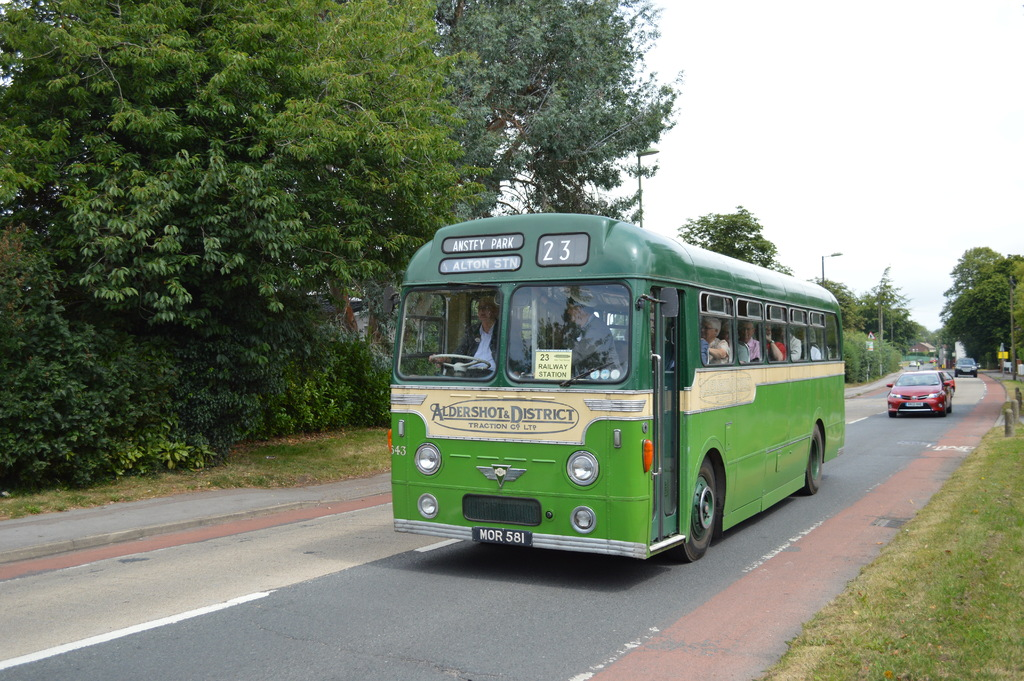mobil: (886, 368, 957, 422)
